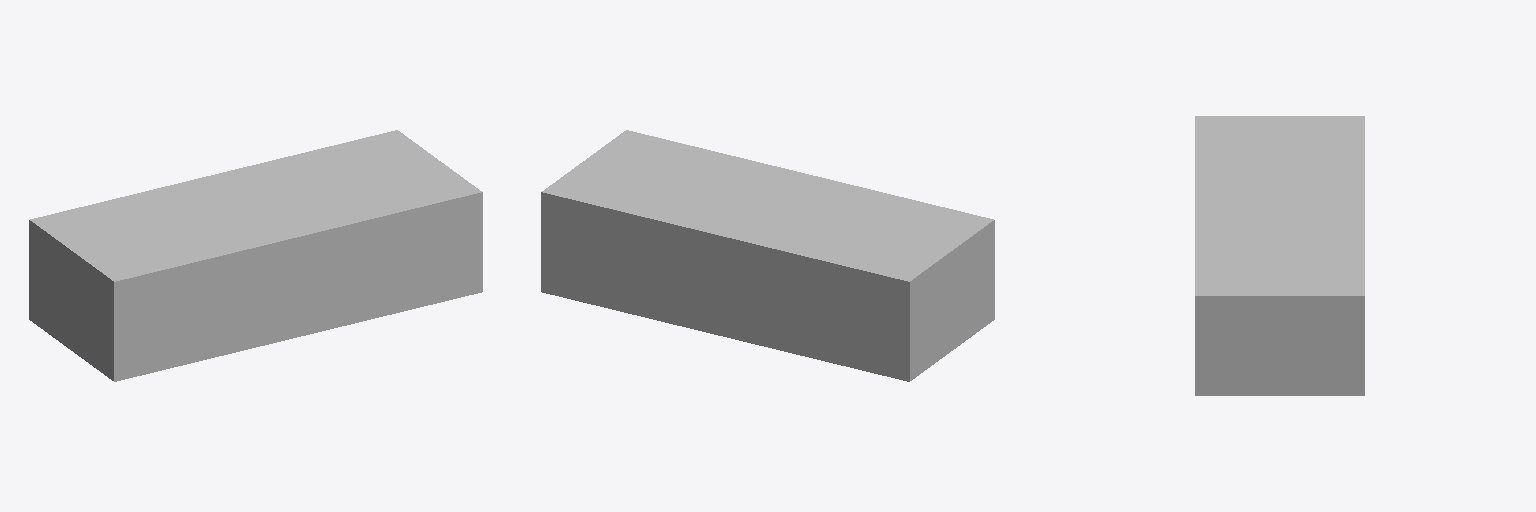
File: log.obj
3 renders of one model, left to right at view 1: azimuth 30°, elevation 25°; view 2: azimuth 150°, elevation 25°; view 3: azimuth 270°, elevation 25°, orthographic.
Size of the model in its own units: 50 by 13 by 20.